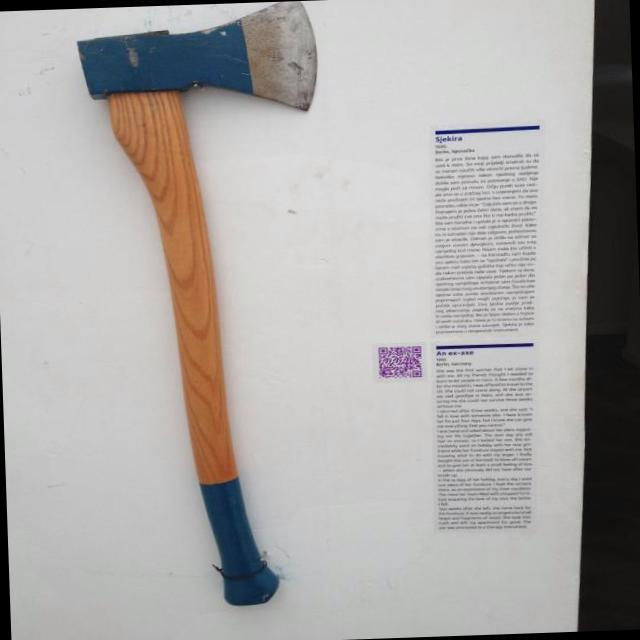Axe: (78, 1, 315, 605)
